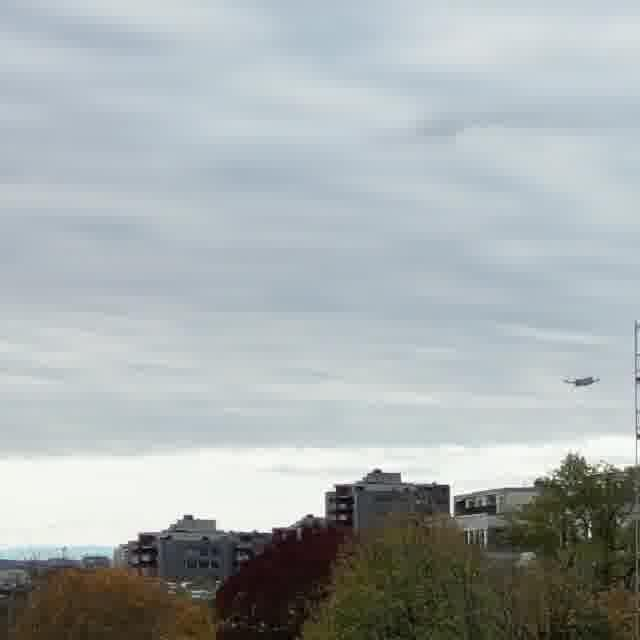Drohne: (564, 376, 599, 387)
